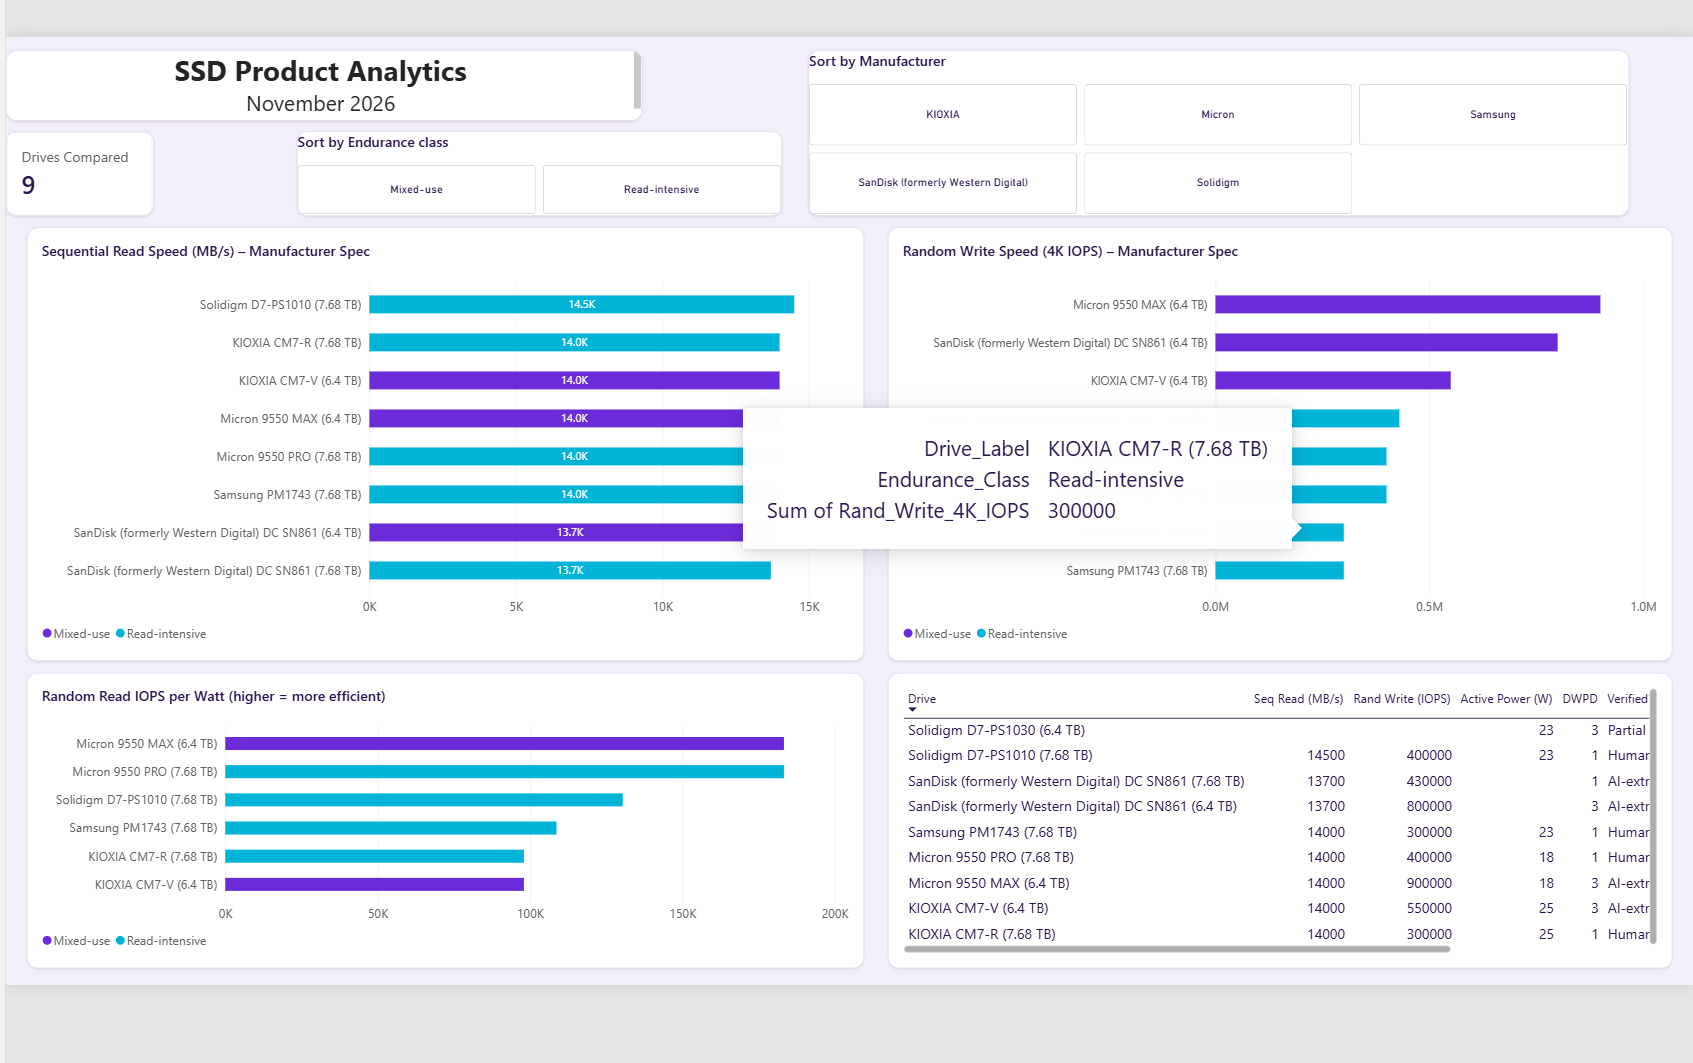

The dashboard page shown, as its layout file describes it:
{"tool":"powerbi","page":{"name":"Page 1","canvas":[1920,1080],"ordinal":0},"visuals":[{"type":"barChart","title":"Sequential Read Speed (MB/s) – Manufacturer Spec","fields":{"Category":["SSD_Specs.Drive_Label"],"Series":["SSD_Specs.Endurance_Class"],"Y":["Sum(SSD_Specs.Seq_Read_MBps)"]},"box":[24,216,888,528],"z":0},{"type":"barChart","title":"Random Write Speed (4K IOPS) – Manufacturer Spec","fields":{"Category":["SSD_Specs.Drive_Label"],"Series":["SSD_Specs.Endurance_Class"],"Y":["Sum(SSD_Specs.Rand_Write_4K_IOPS)"]},"box":[1056,216,840,528],"z":1},{"type":"advancedSlicerVisual","fields":{"Values":["SSD_Specs.Endurance_Class"]},"box":[408,0,552,96],"z":2},{"type":"advancedSlicerVisual","fields":{"Values":["SSD_Specs.Manufacturer"]},"box":[984,0,936,144],"z":3},{"type":"barChart","title":"Random Read IOPS per Watt (higher = more efficient)","fields":{"Category":["SSD_Specs.Drive_Label"],"Series":["SSD_Specs.Endurance_Class"],"Y":["SSD_Specs.Read IOPS per Watt"]},"box":[32,728,888,336],"z":4},{"type":"tableEx","fields":{"Values":["SSD_Specs.Drive_Label","Sum(SSD_Specs.Seq_Read_MBps)","Sum(SSD_Specs.Rand_Write_4K_IOPS)","Sum(SSD_Specs.Active_Power_W)","Sum(SSD_Specs.Endurance_DWPD)","SSD_Specs.Verification_Status"]},"box":[1056,744,840,336],"z":5},{"type":"textbox","box":[0,0,384,96],"z":6},{"type":"shape","box":[0,192,1920,24],"z":7},{"type":"shape","box":[0,216,24,864],"z":10},{"type":"shape","box":[576,192,888,24],"z":11},{"type":"shape","box":[1896,216,24,864],"z":12},{"type":"cardVisual","fields":{"Data":["SSD_Specs.Drives Compared"]},"box":[0,96,168,96],"z":13}]}

Visuals, with their boxes on the page's 1920x1080 design canvas (x1, y1, x2, y2). These are canvas units, not pixel positions in the 1693x1063 screenshot, which may show the page scaled, cropped or inside an application window:
"Sequential Read Speed (MB/s) – Manufacturer Spec" barChart: 24/216/912/744
"Random Write Speed (4K IOPS) – Manufacturer Spec" barChart: 1056/216/1896/744
advancedSlicerVisual - SSD_Specs.Endurance_Class: 408/0/960/96
advancedSlicerVisual - SSD_Specs.Manufacturer: 984/0/1920/144
"Random Read IOPS per Watt (higher = more efficient)" barChart: 32/728/920/1064
tableEx - SSD_Specs.Drive_Label x Sum(SSD_Specs.Seq_Read_MBps): 1056/744/1896/1080
textbox: 0/0/384/96
shape: 0/192/1920/216
shape: 0/216/24/1080
shape: 576/192/1464/216
shape: 1896/216/1920/1080
cardVisual - SSD_Specs.Drives Compared: 0/96/168/192
